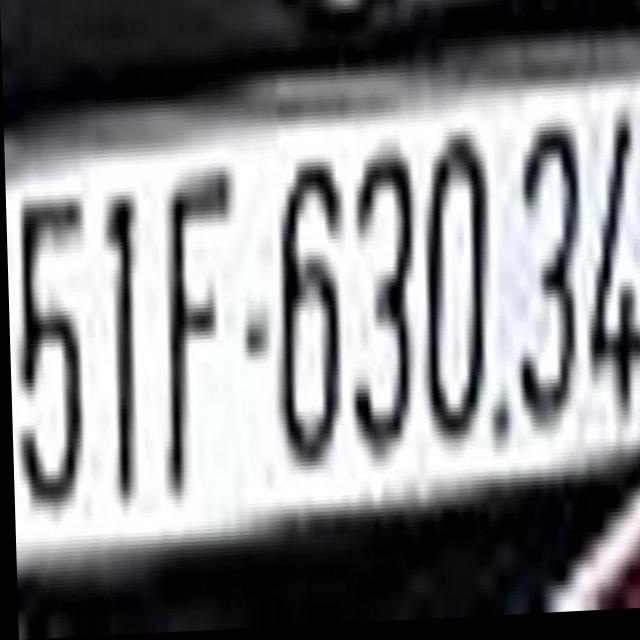0: (416, 123, 492, 464)
1: (101, 165, 140, 524)
3: (510, 120, 586, 449), (344, 146, 418, 471)
4: (581, 109, 640, 438)
5: (16, 179, 89, 516)
6: (271, 145, 348, 482)
F: (155, 153, 238, 494)
